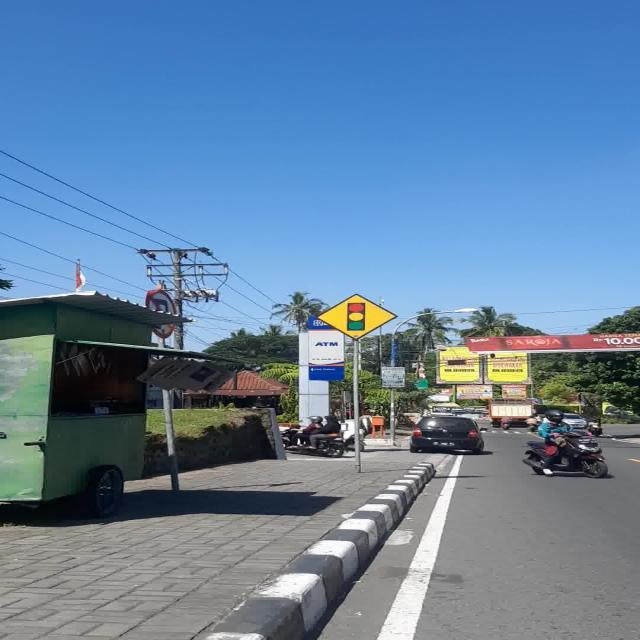Lampu Lalu Lintas: (316, 294, 398, 340)
